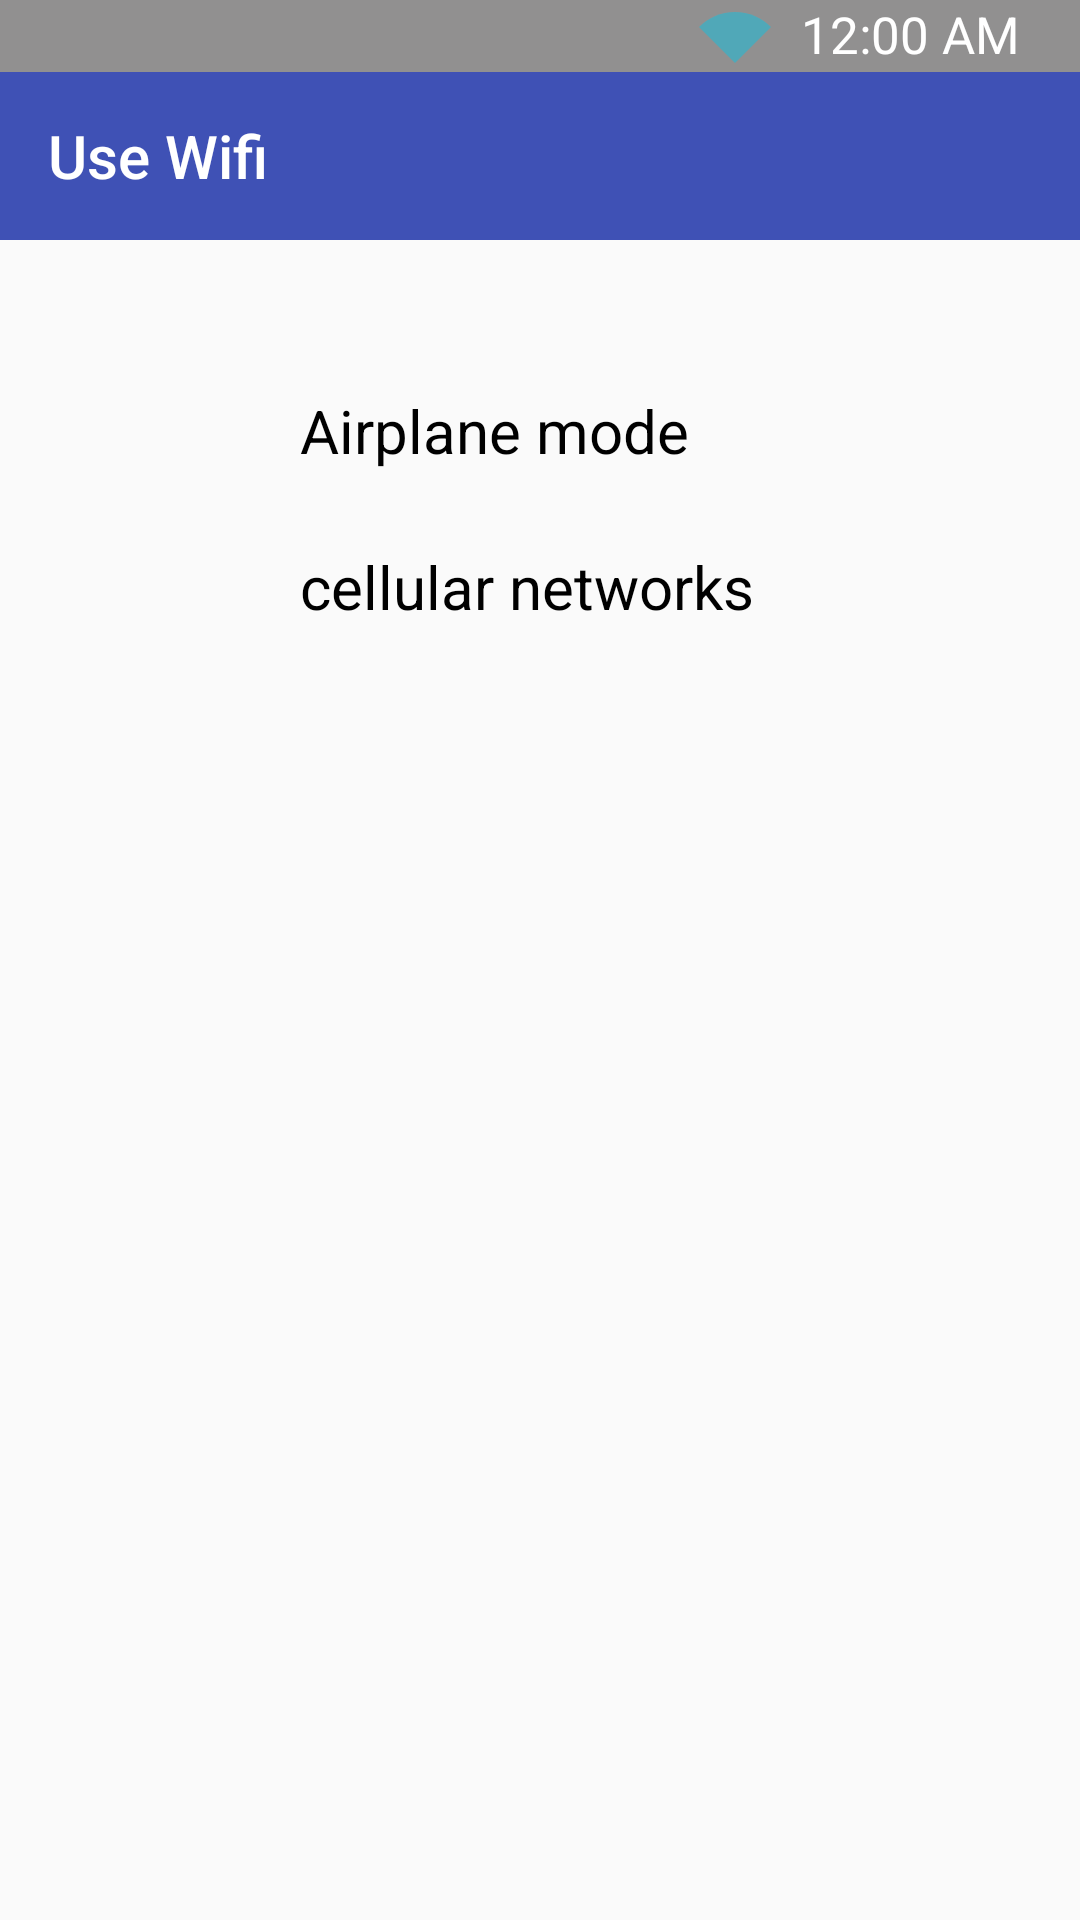

Locate icon controls on the screen. Image size 1080 × 1920, boxes as (x1, y1, x2, y2).
wifi: (699, 12, 771, 63)
